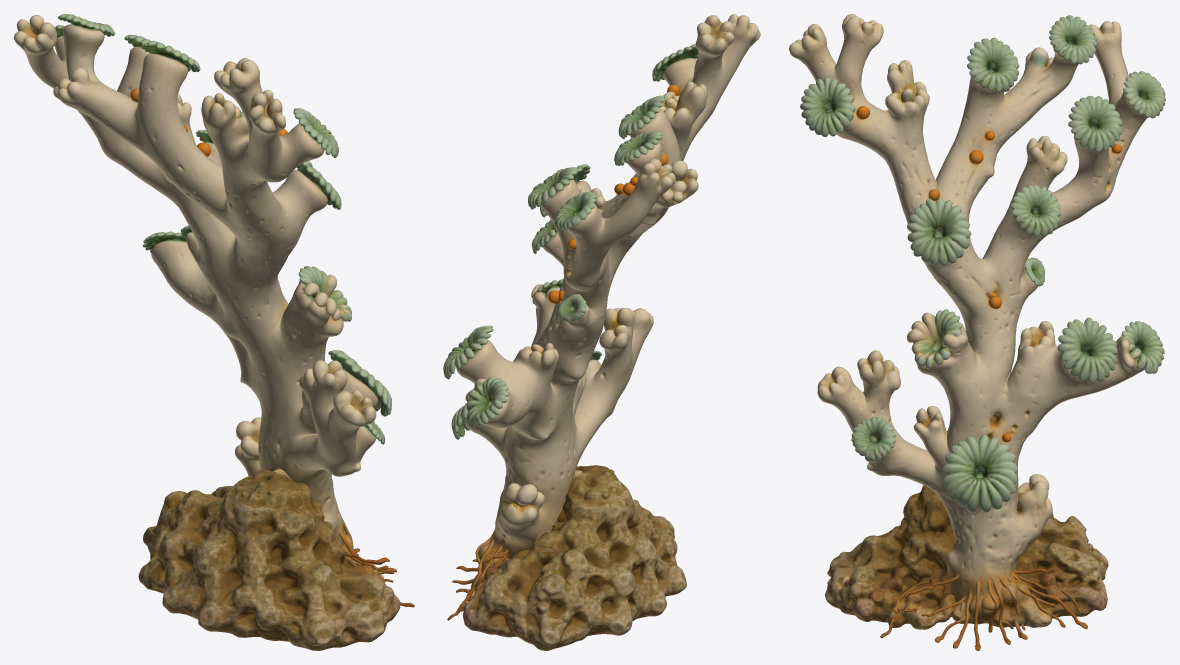
3 renders of one model, left to right at view 1: azimuth 30°, elevation 25°; view 2: azimuth 150°, elevation 25°; view 3: azimuth 270°, elevation 25°, orthographic. The views are drawn at different scales.
Bounding box in the file's own units: 0.5283 × 0.9999 × 0.6295.
Materials: 1 (1 with a texture image).
